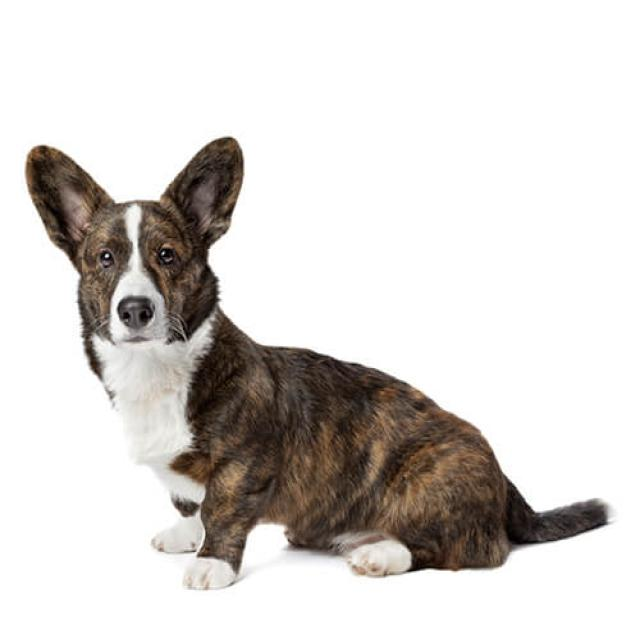CORGI: (28, 134, 617, 596)
